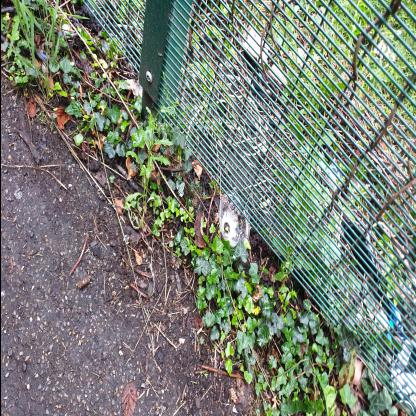plastik: (217, 190, 249, 248)
